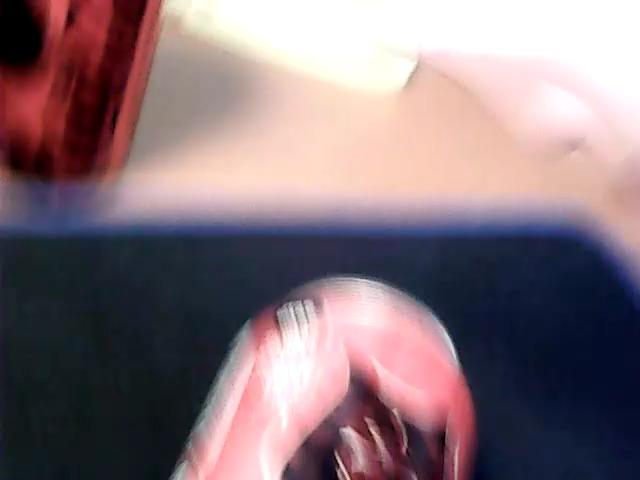coke: (174, 275, 473, 480), (0, 0, 162, 230)
